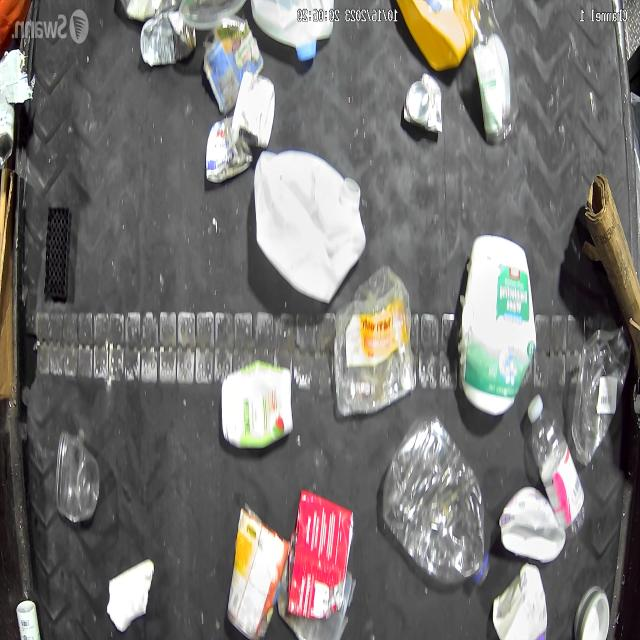can: (226, 503, 290, 640), (140, 9, 196, 68), (206, 116, 253, 184), (401, 74, 444, 134), (0, 49, 16, 166)
milk_jug: (254, 149, 366, 303), (250, 0, 335, 63)
non_white_jug: (396, 0, 478, 72)
plastic_bottle: (381, 412, 491, 586), (527, 393, 587, 538)
